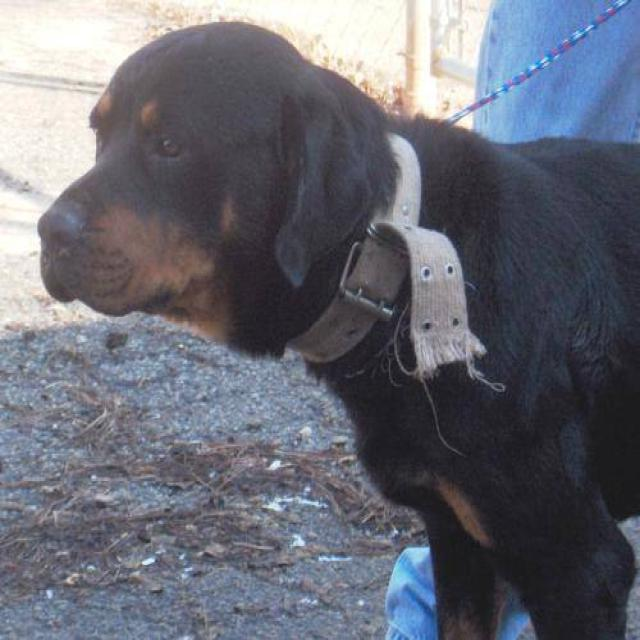dog: (36, 17, 639, 638)
